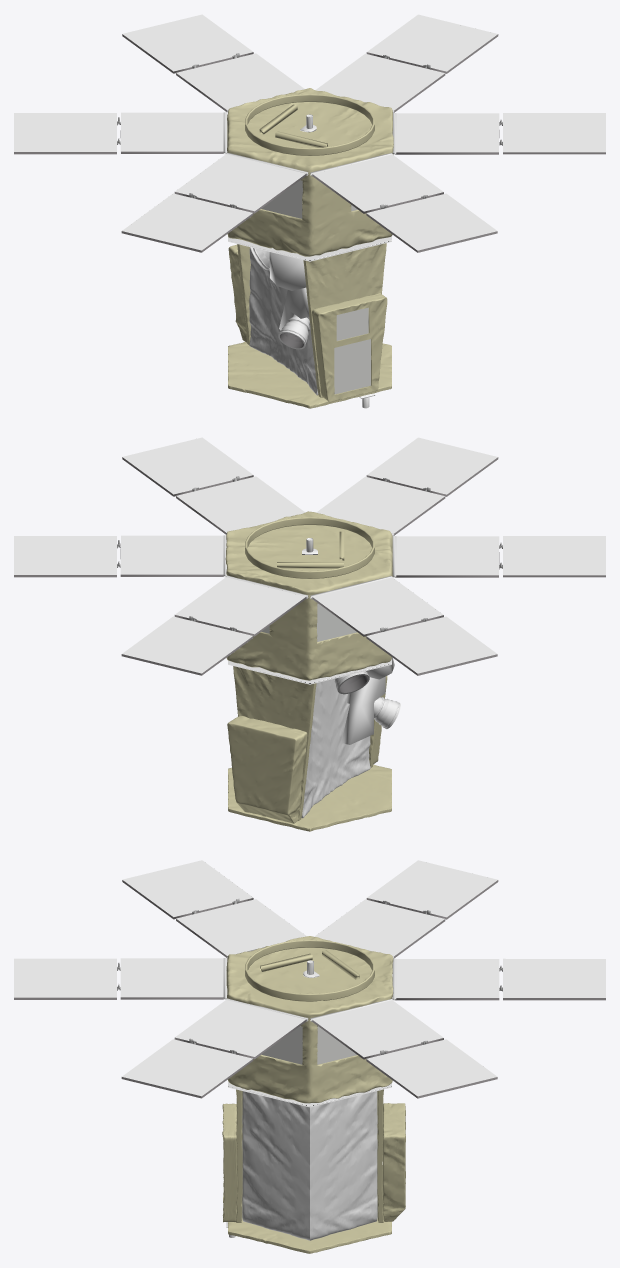
File: solar-radiation-and-climate-experiment-sorce.glb
3 renders of one model, top to bottom at view 1: azimuth 30°, elevation 25°; view 2: azimuth 150°, elevation 25°; view 3: azimuth 270°, elevation 25°, orthographic.
Parts seen in each view (by area): view 1: SORCE_vFINAL [Layer11], SORCE_vFINAL [Layer10]; view 2: SORCE_vFINAL [Layer11], SORCE_vFINAL [Layer10]; view 3: SORCE_vFINAL [Layer11], SORCE_vFINAL [Layer10].
Part boxes in pixels (box(x1,y1,x2,y2)): SORCE_vFINAL [Layer11]: box(14, 14, 605, 250); SORCE_vFINAL [Layer10]: box(14, 34, 605, 408); SORCE_vFINAL [Layer11]: box(14, 437, 605, 673); SORCE_vFINAL [Layer10]: box(14, 457, 605, 831); SORCE_vFINAL [Layer11]: box(14, 860, 605, 1096); SORCE_vFINAL [Layer10]: box(14, 880, 605, 1253).
Bounding box in the file's own units: 230 × 121 × 243.
Materials: 2 (2 with a texture image).
